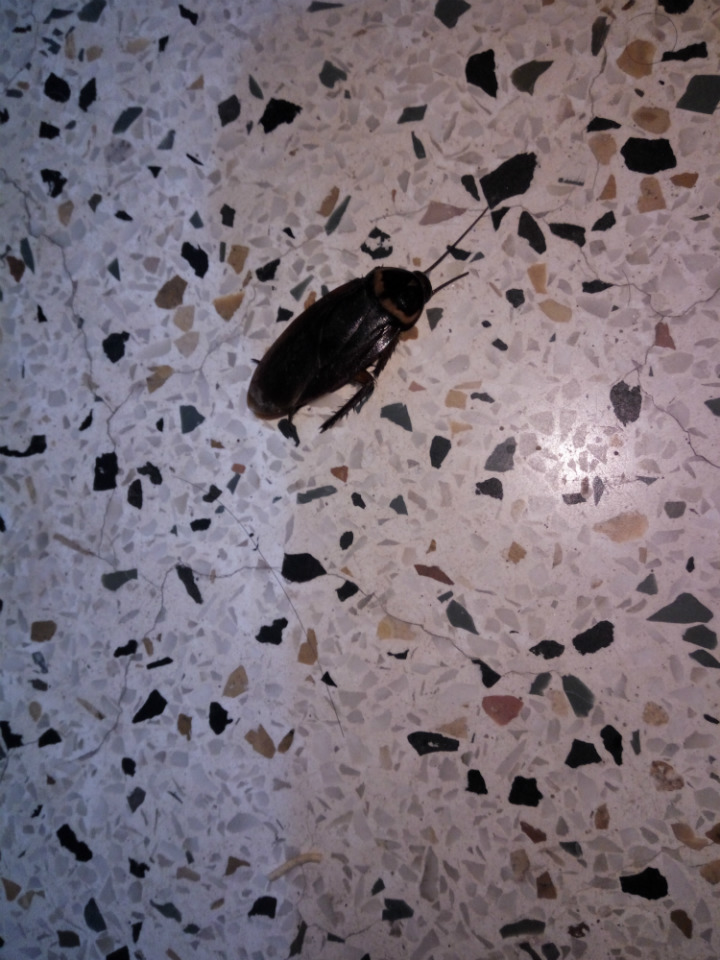cockroach: (171, 191, 547, 463)
